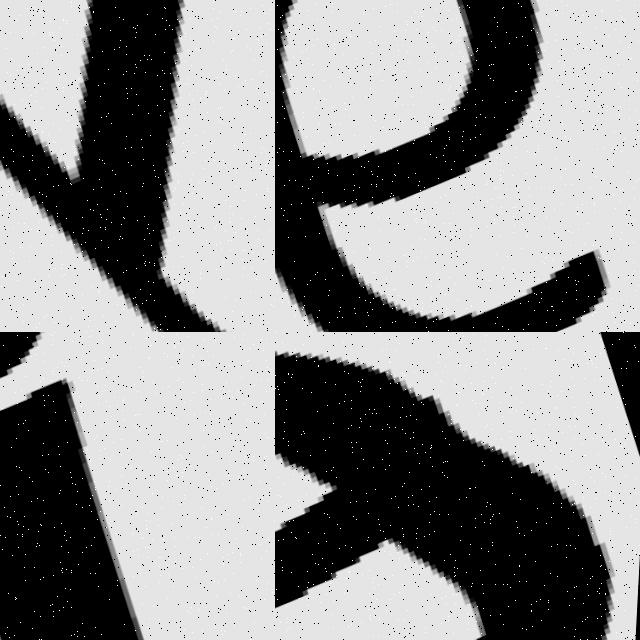9: (275, 0, 640, 332)
E: (275, 354, 621, 640)
I: (0, 332, 215, 640)
Y: (0, 0, 275, 332)
